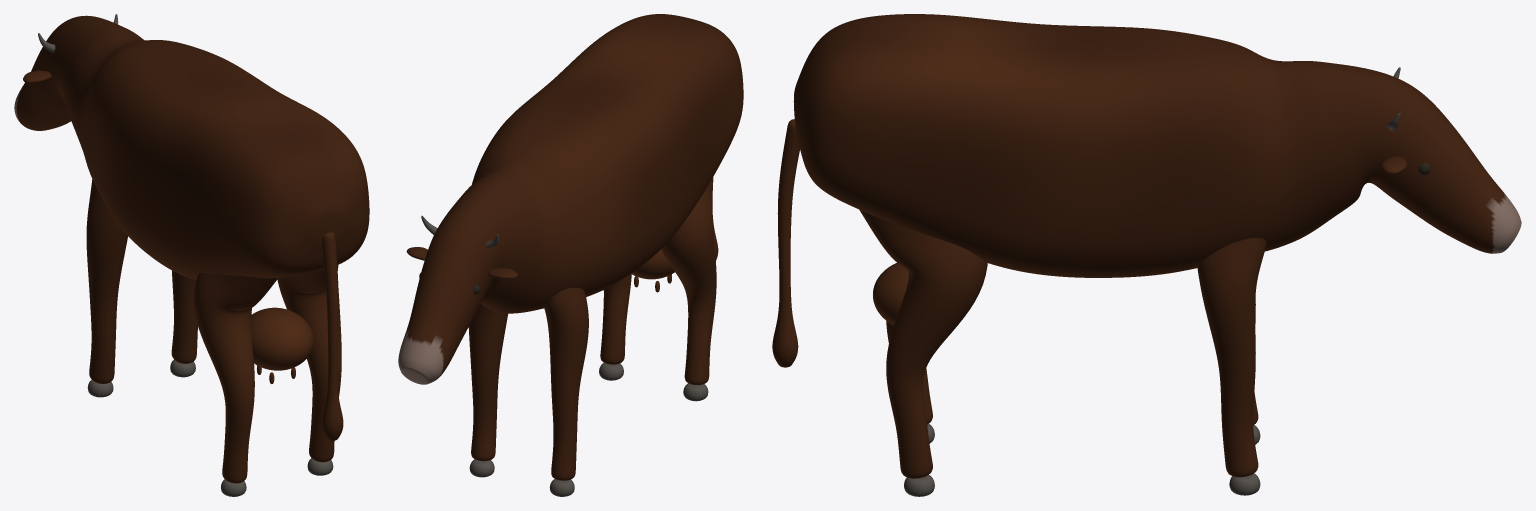
Rendered from cow_brown_standing.gltf.
The picture shows the model from 3 angles, left to right: view 1: azimuth 30°, elevation 25°; view 2: azimuth 150°, elevation 25°; view 3: azimuth 270°, elevation 25°; orthographic projection. The views are drawn at different scales.
Parts seen in each view (by area): view 1: cow; view 2: cow; view 3: cow.
Part boxes in pixels (bbox=[...]): cow: bbox=[14, 14, 369, 496]; cow: bbox=[398, 14, 743, 496]; cow: bbox=[772, 14, 1521, 496].
Bounding box in the file's own units: 0.6575 × 1.6 × 2.49.
